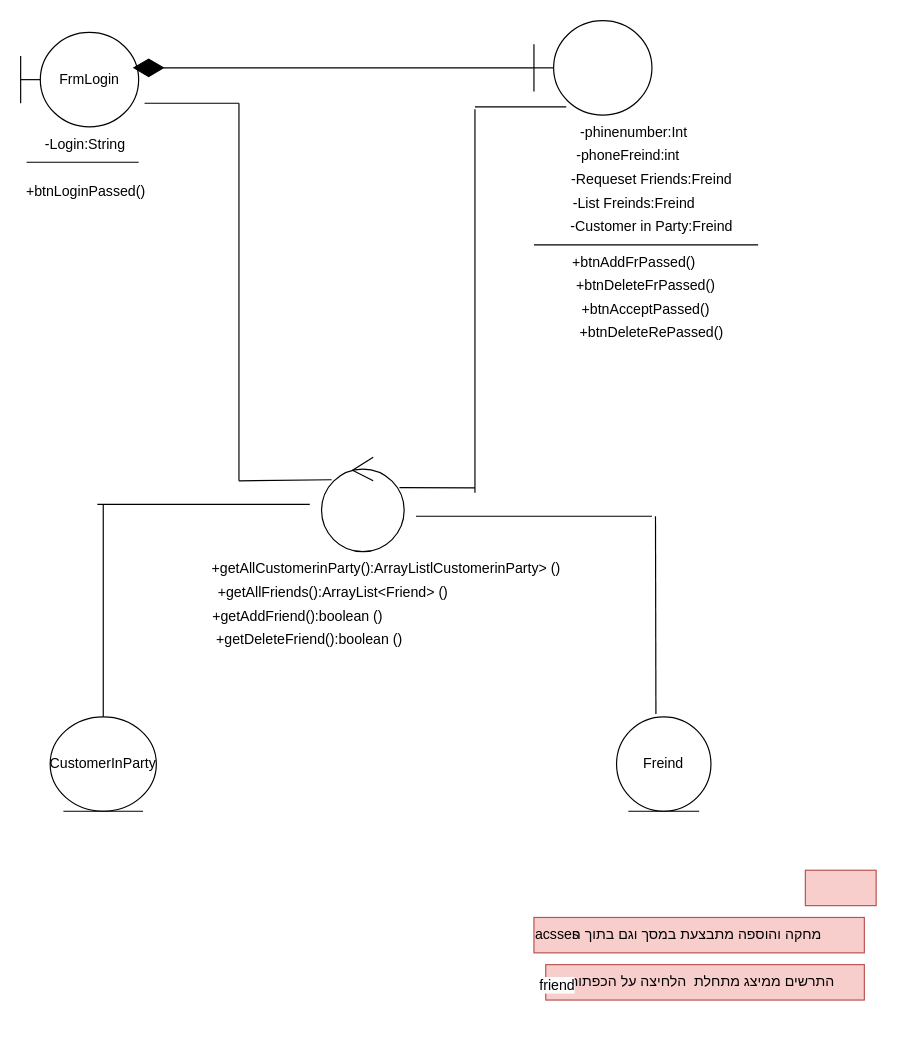
Some shapes in this 897 by 1049 pixel diagram are drawn without their labels. Each missing label, with the centre of its shape:
"FriendLogic" belongs at pixel 362 504.
"FrmFriendShip" belongs at pixel 592 67.
"הנחה" belongs at pixel 840 887.
